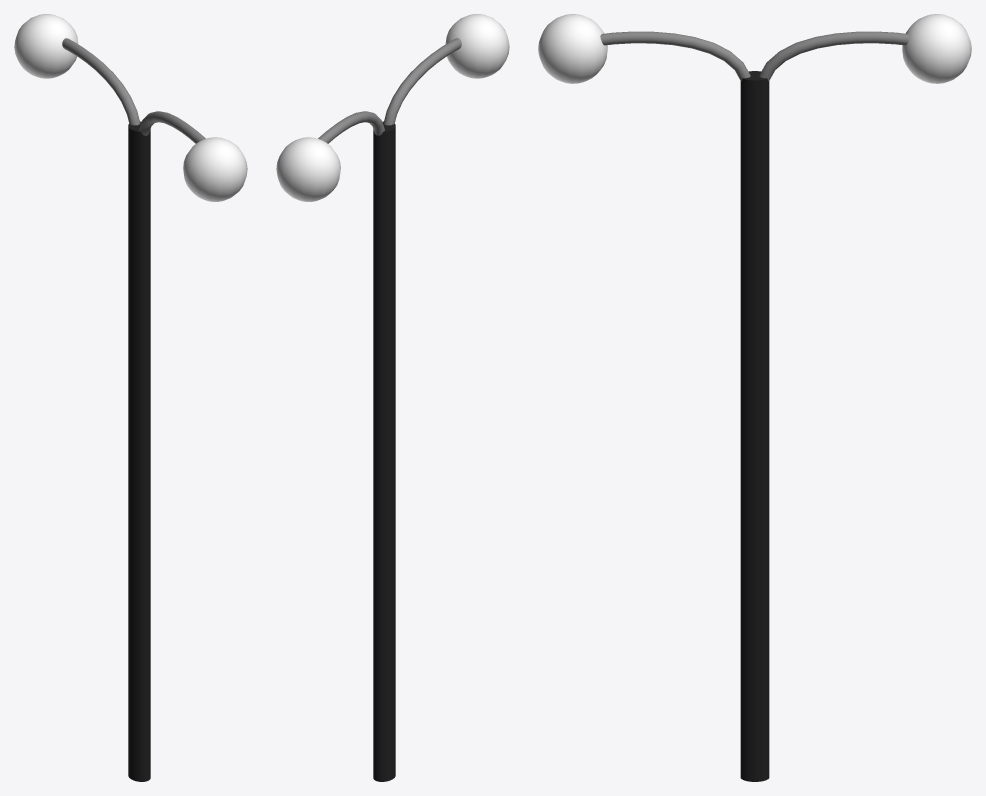
The model's file is lamp.fbx.
3 renders of one model, left to right at view 1: azimuth 30°, elevation 25°; view 2: azimuth 150°, elevation 25°; view 3: azimuth 270°, elevation 25°, orthographic. The views are drawn at different scales.
Visible parts, largest first — view 1: light; view 2: light; view 3: light.
Part boxes in pixels (<box>): light: <box>14,14,247,781</box>; light: <box>276,14,509,781</box>; light: <box>538,14,971,781</box>.
Bounding box in the file's own units: 68.69 × 822 × 428.
